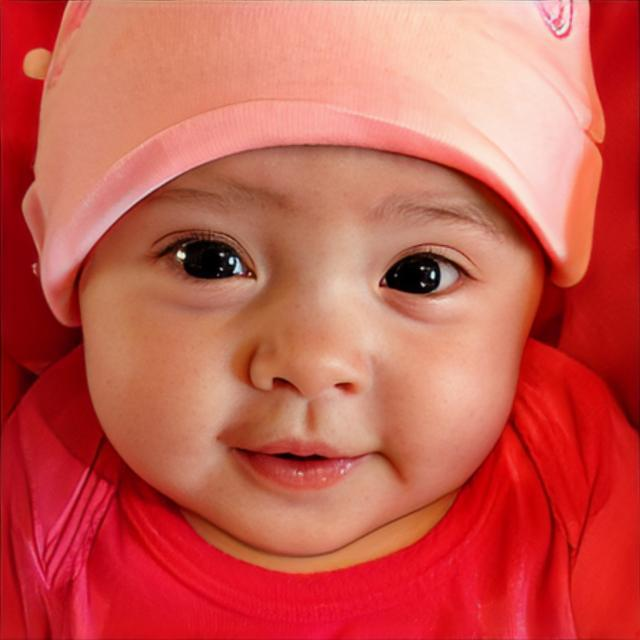happy: (77, 136, 555, 557)
